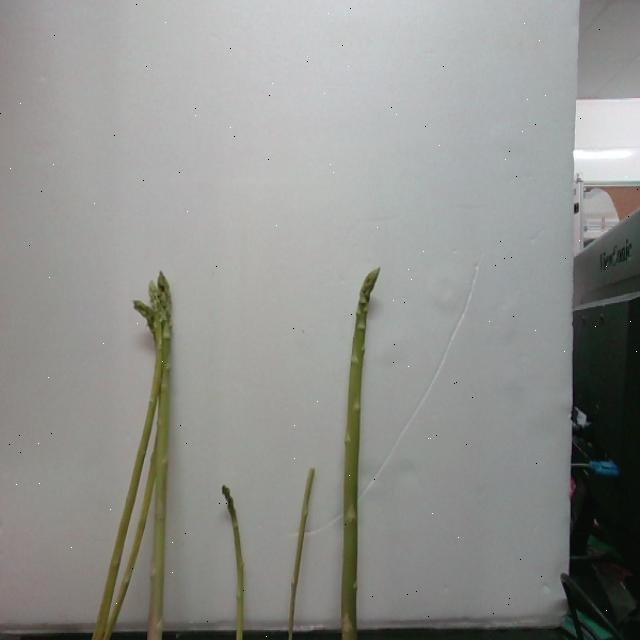aspargus: (339, 271, 377, 640), (220, 487, 250, 640)
